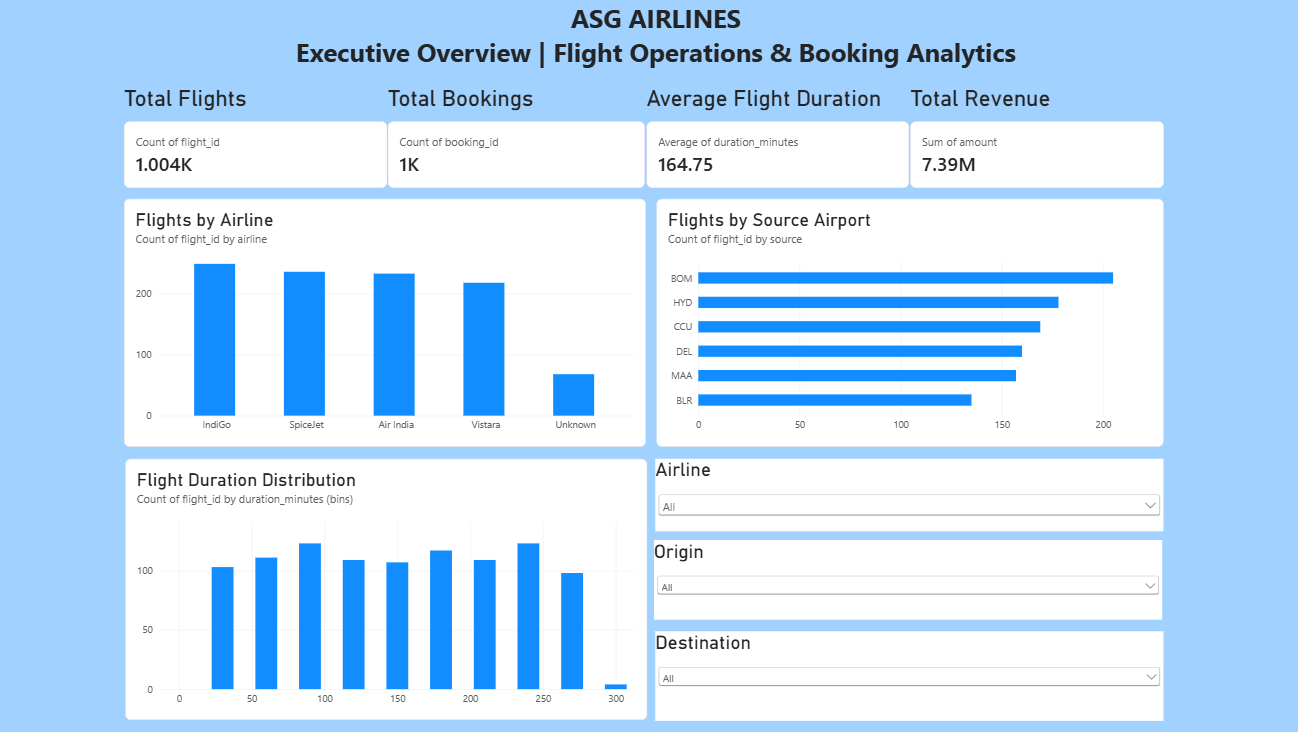

The page's visual inventory and layout, read from the dashboard file:
{"tool":"powerbi","page":{"name":"Executive Overview","canvas":[1920,1080],"ordinal":0},"visuals":[{"type":"cardVisual","title":"Total Flights","fields":{"Data":["Count(cleaned_flights.flight_id)"]},"box":[182.1,123.2,383.9,150],"z":0},{"type":"cardVisual","title":"Total Bookings","fields":{"Data":["Count(cleaned_bookings.booking_id)"]},"box":[566.1,123.2,375,150],"z":1000},{"type":"cardVisual","title":"Average Flight Duration","fields":{"Data":["Avg(cleaned_flights.duration_minutes)"]},"box":[941.1,123.2,382.1,150],"z":2000},{"type":"clusteredColumnChart","title":"Flights by Airline","fields":{"Category":["cleaned_flights.airline"],"Y":["CountNonNull(cleaned_flights.flight_id)"]},"box":[182.1,289.3,758.9,360.7],"z":3000},{"type":"clusteredBarChart","title":"Flights by Source Airport","fields":{"Category":["cleaned_flights.source","cleaned_flights.destination"],"Y":["CountNonNull(cleaned_flights.flight_id)"]},"box":[957.1,289.3,737.5,360.7],"z":4000},{"type":"clusteredColumnChart","title":"Flight Duration Distribution","fields":{"Category":["cleaned_flights.duration_minutes (bins)"],"Y":["CountNonNull(cleaned_flights.flight_id)"]},"box":[183.9,667.9,758.9,380.4],"z":5000},{"type":"textbox","box":[403.6,0,1103.6,123.2],"z":6000},{"type":"slicer","title":"Airline","fields":{"Values":["cleaned_flights.airline"]},"box":[955.4,667.9,739.3,105.4],"z":7000},{"type":"slicer","title":"Origin","fields":{"Values":["cleaned_flights.source"]},"box":[953.6,785.7,739.3,116.1],"z":8000},{"type":"slicer","title":"Destination","fields":{"Values":["cleaned_flights.destination"]},"box":[955.4,917.9,739.3,130.4],"z":9000},{"type":"cardVisual","title":"Total Revenue","fields":{"Data":["Sum(cleaned_payments.amount)"]},"box":[1325,123.2,369.6,150],"z":10000}]}

Visuals, with their boxes in screenshot pixels (x1, y1, x2, y2), scaled from the page's 1920x1080 canvas onto the 1298x732 screenshot:
"Total Flights" cardVisual: select_region(123, 84, 383, 185)
"Total Bookings" cardVisual: select_region(383, 84, 636, 185)
"Average Flight Duration" cardVisual: select_region(636, 84, 895, 185)
"Flights by Airline" clusteredColumnChart: select_region(123, 196, 636, 441)
"Flights by Source Airport" clusteredBarChart: select_region(647, 196, 1146, 441)
"Flight Duration Distribution" clusteredColumnChart: select_region(124, 453, 637, 711)
textbox: select_region(273, 0, 1019, 84)
"Airline" slicer: select_region(646, 453, 1146, 524)
"Origin" slicer: select_region(645, 533, 1144, 611)
"Destination" slicer: select_region(646, 622, 1146, 711)
"Total Revenue" cardVisual: select_region(896, 84, 1146, 185)
